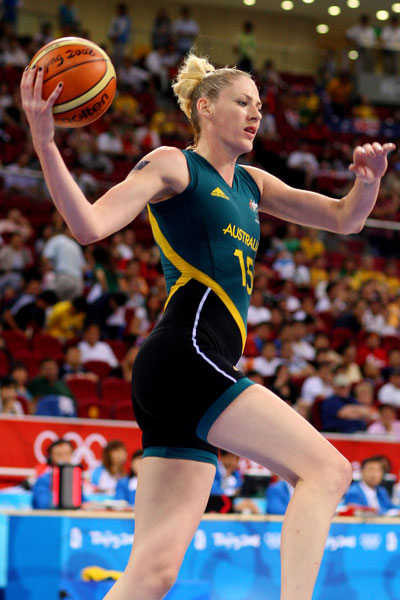basketball: (28, 36, 117, 130)
